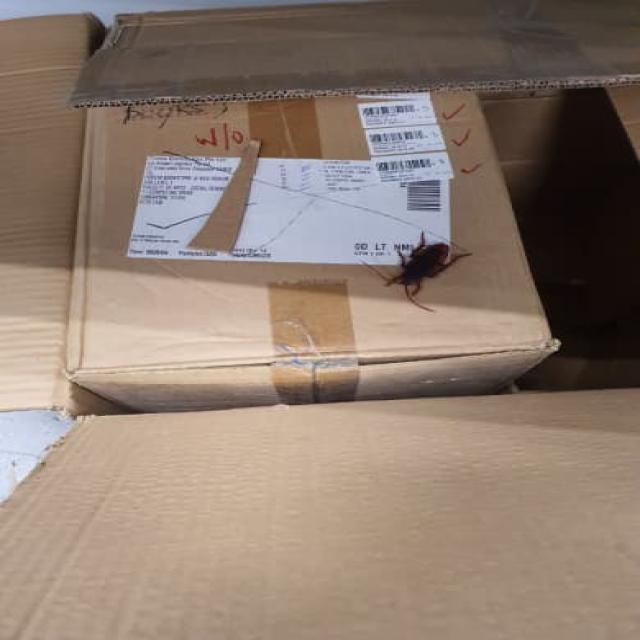Cockroach: (364, 224, 468, 308)
